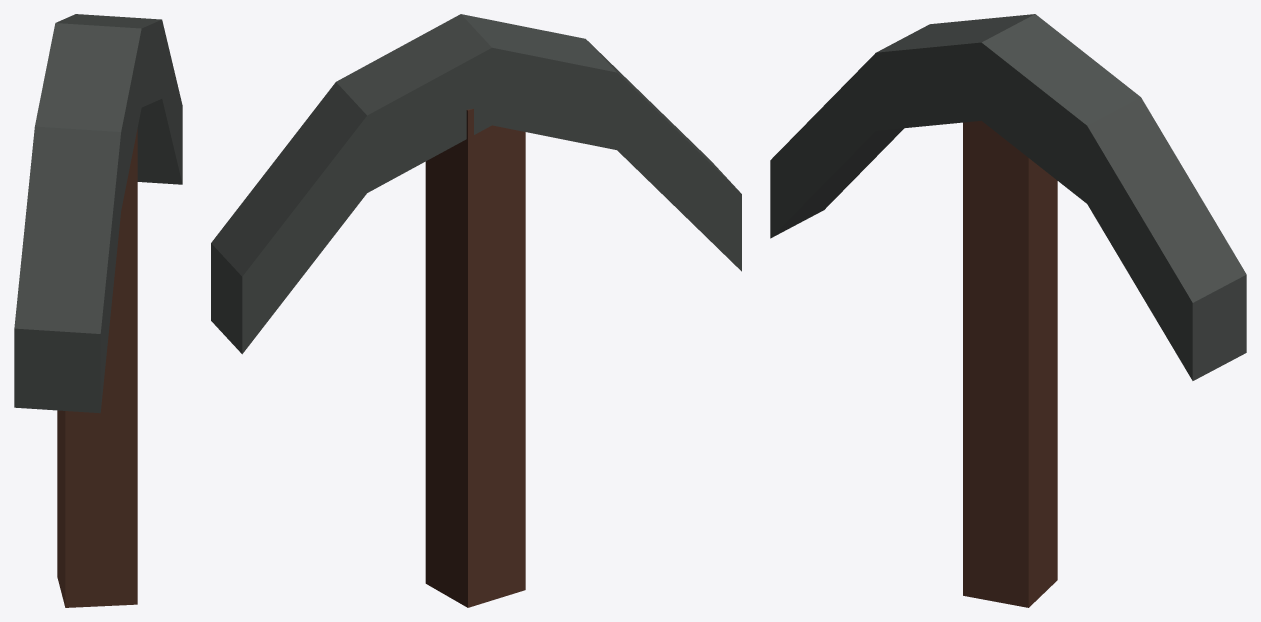
Rendered from GL gun.obj.
3 views of the same model, side by side, from view 1: azimuth 30°, elevation 25°; view 2: azimuth 150°, elevation 25°; view 3: azimuth 270°, elevation 25° (orthographic).
Parts seen in each view (by area): view 1: Cube.001_Cube.009, Cube_Cube.006; view 2: Cube.001_Cube.009, Cube_Cube.006; view 3: Cube.001_Cube.009, Cube_Cube.006.
Boxes of the visible parts, <box> form: Cube.001_Cube.009: <box>14,14,182,413</box>; Cube_Cube.006: <box>57,129,137,607</box>; Cube.001_Cube.009: <box>211,14,741,354</box>; Cube_Cube.006: <box>425,108,525,607</box>; Cube.001_Cube.009: <box>770,14,1246,380</box>; Cube_Cube.006: <box>963,120,1057,607</box>.
Size of the model in its own units: 0.3278 by 0.4999 by 0.3856.
